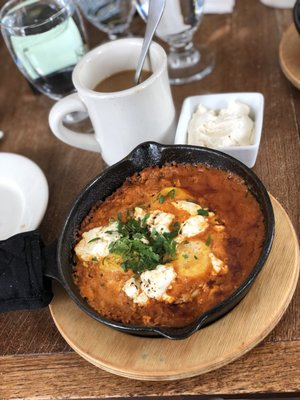pizza: (0, 0, 90, 102)
salad: (132, 0, 167, 84)
sushi: (64, 143, 278, 332), (173, 92, 264, 169)
